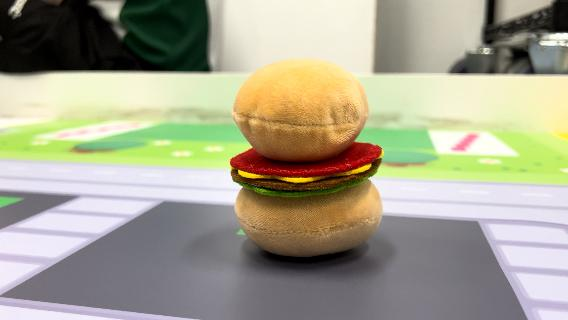burger: (224, 54, 389, 260)
